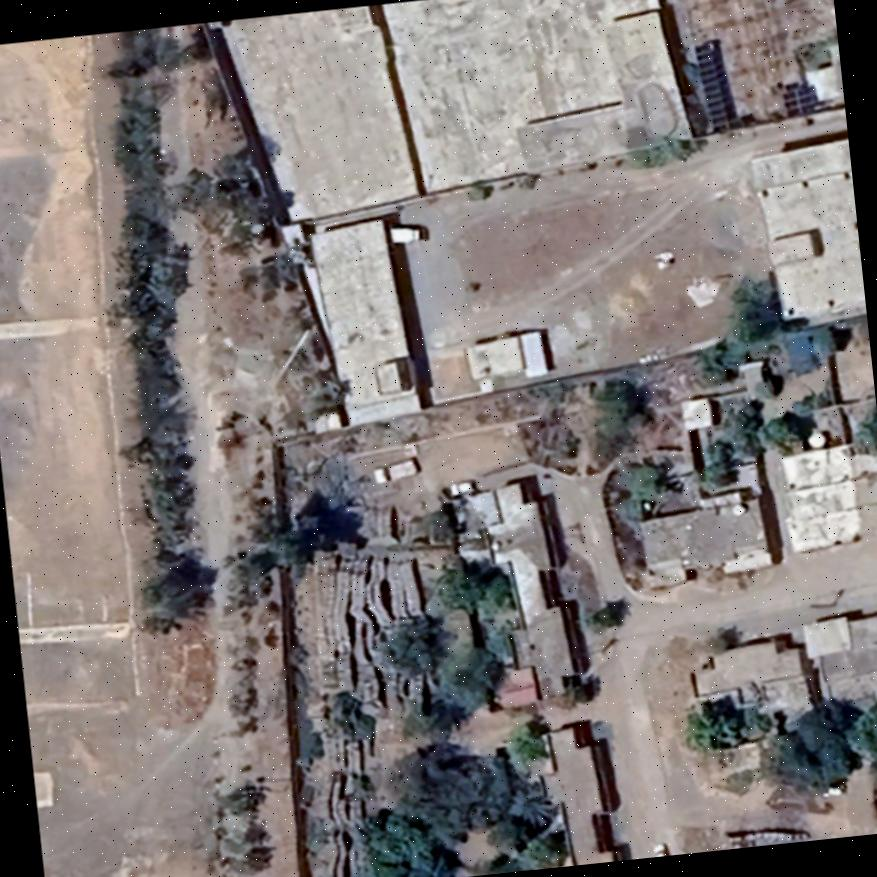Solarpanel: (690, 29, 745, 141), (779, 70, 826, 130)
